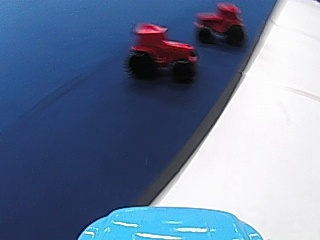Tracktor: (123, 19, 200, 82), (194, 2, 246, 48)
